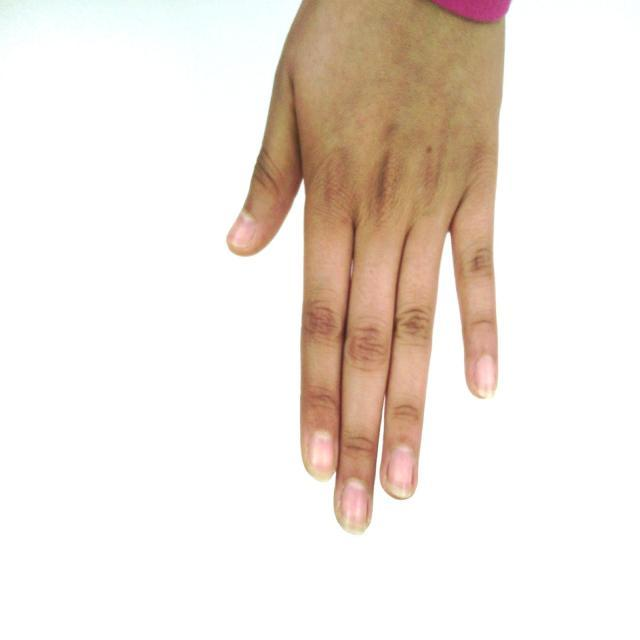Fingernail: (341, 480, 368, 535), (386, 447, 415, 498), (308, 431, 334, 480), (230, 213, 256, 245), (475, 356, 495, 397)
